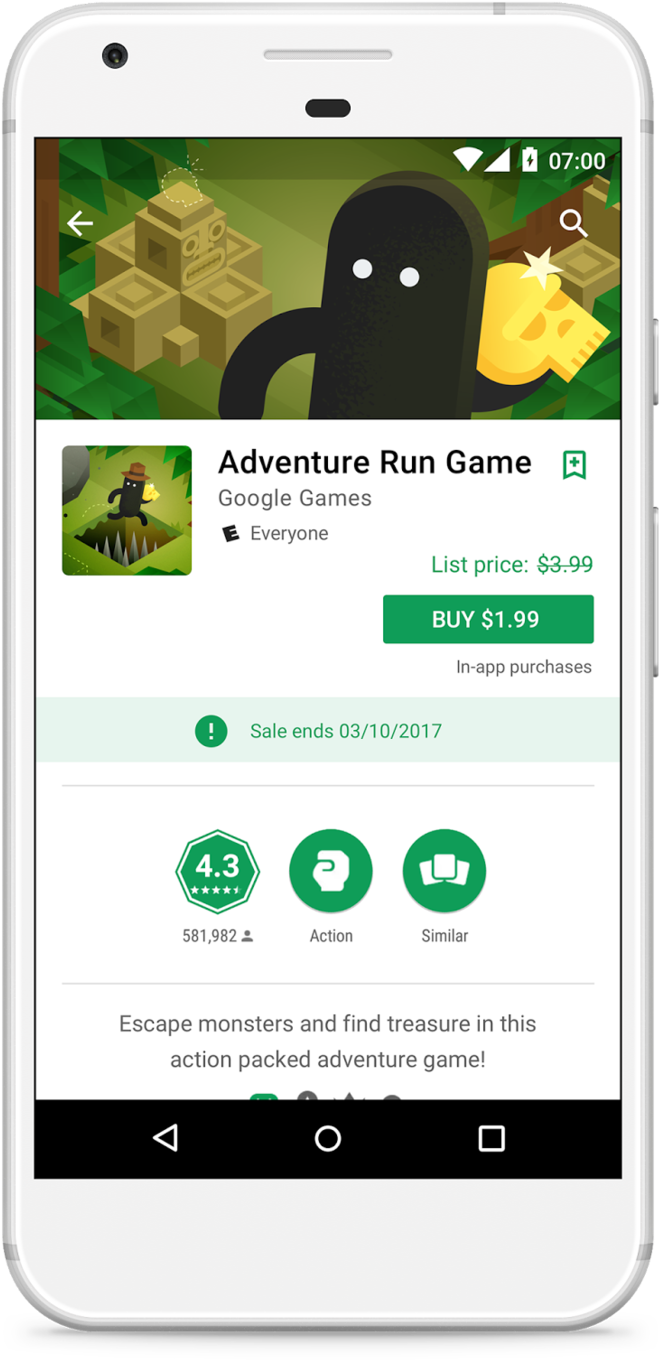phone: (1, 14, 647, 1323)
